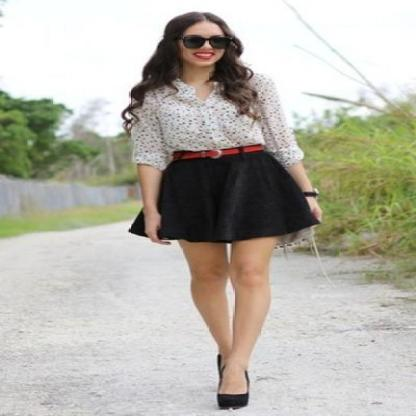shirt: (127, 75, 303, 169)
shoe: (218, 392, 247, 409)
skirt: (129, 147, 318, 243)
sunglass: (180, 25, 236, 48)
